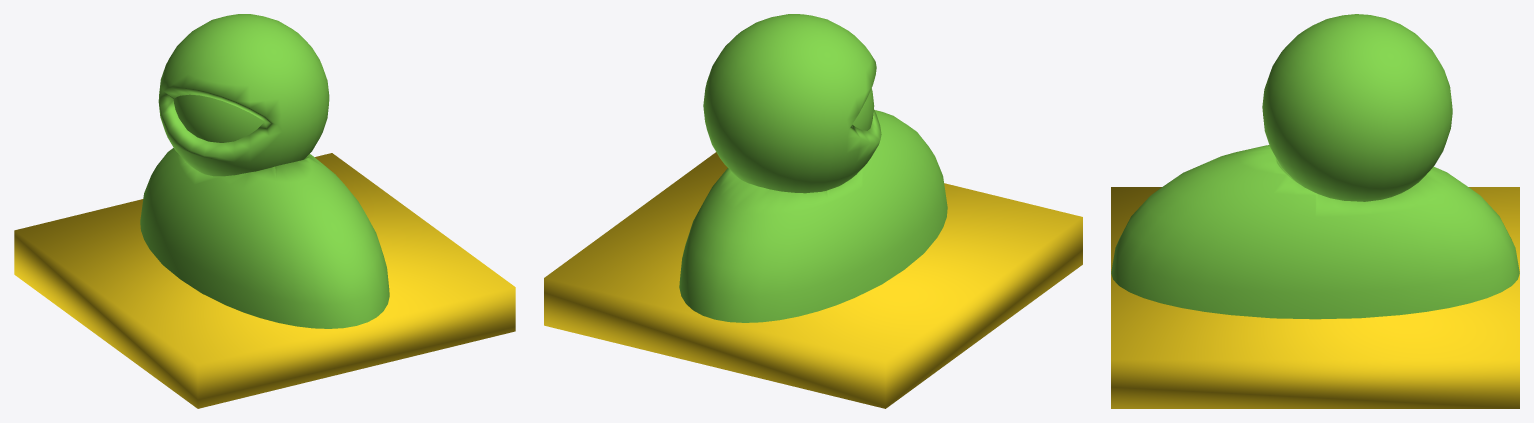
Rendered from baby_7.glb.
3 renders of one model, left to right at view 1: azimuth 30°, elevation 25°; view 2: azimuth 150°, elevation 25°; view 3: azimuth 270°, elevation 25°, orthographic. The views are drawn at different scales.
Parts seen in each view (by area): view 1: figura, basetta; view 2: figura, basetta; view 3: figura, basetta.
Part boxes in pixels (x1,y1,x2,y2): figura: (140,14,389,328); basetta: (14,153,515,408); figura: (679,14,947,322); basetta: (544,152,1082,408); figura: (1111,14,1519,319); basetta: (1111,187,1519,408).
Size of the model in its own units: 0.015 by 0.0121 by 0.015.
